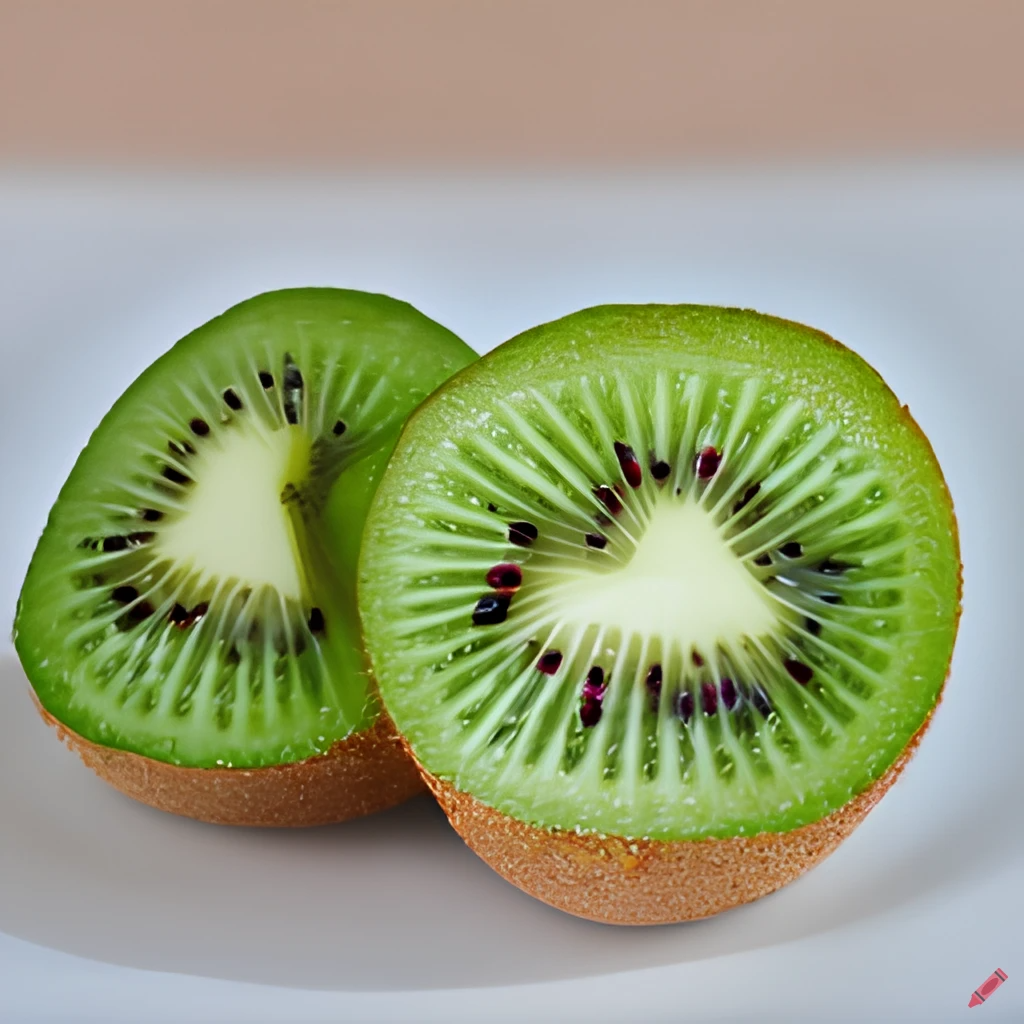Kiwi: (356, 255, 953, 940)
